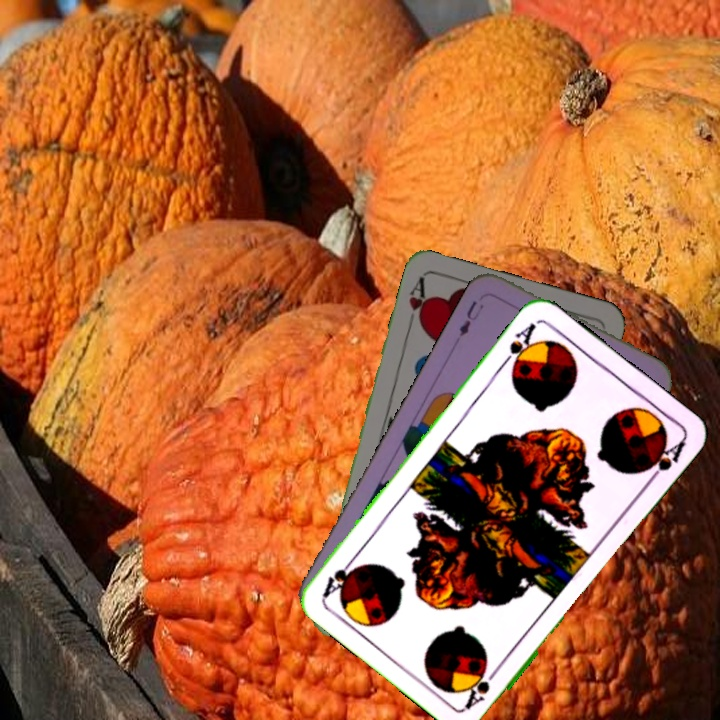EU: (455, 296, 487, 339)
HA: (404, 273, 431, 332)
SA: (498, 318, 539, 374), (460, 661, 504, 712)
